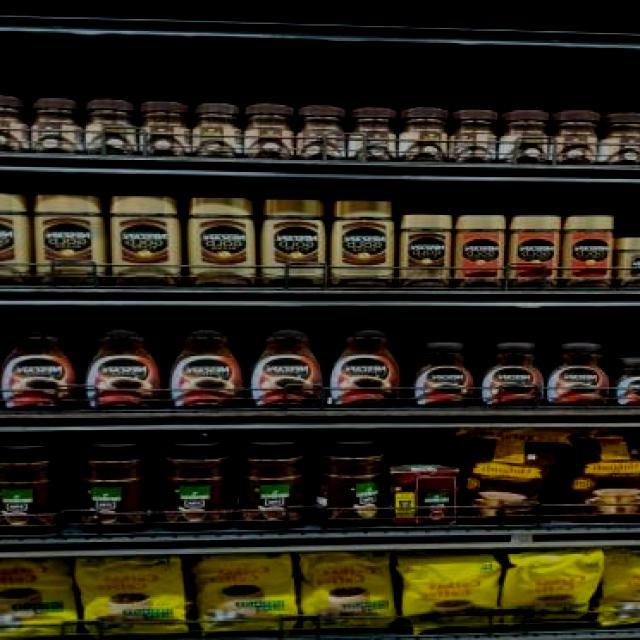Coffee: (1, 325, 80, 411), (85, 326, 163, 410), (169, 326, 246, 408), (329, 326, 404, 409), (109, 196, 178, 284), (258, 200, 328, 285), (249, 329, 322, 409), (36, 196, 102, 284), (187, 198, 253, 285), (330, 200, 396, 286), (410, 342, 476, 406), (544, 342, 608, 406), (478, 342, 540, 408), (398, 214, 454, 287), (611, 356, 640, 406), (619, 238, 640, 288)
